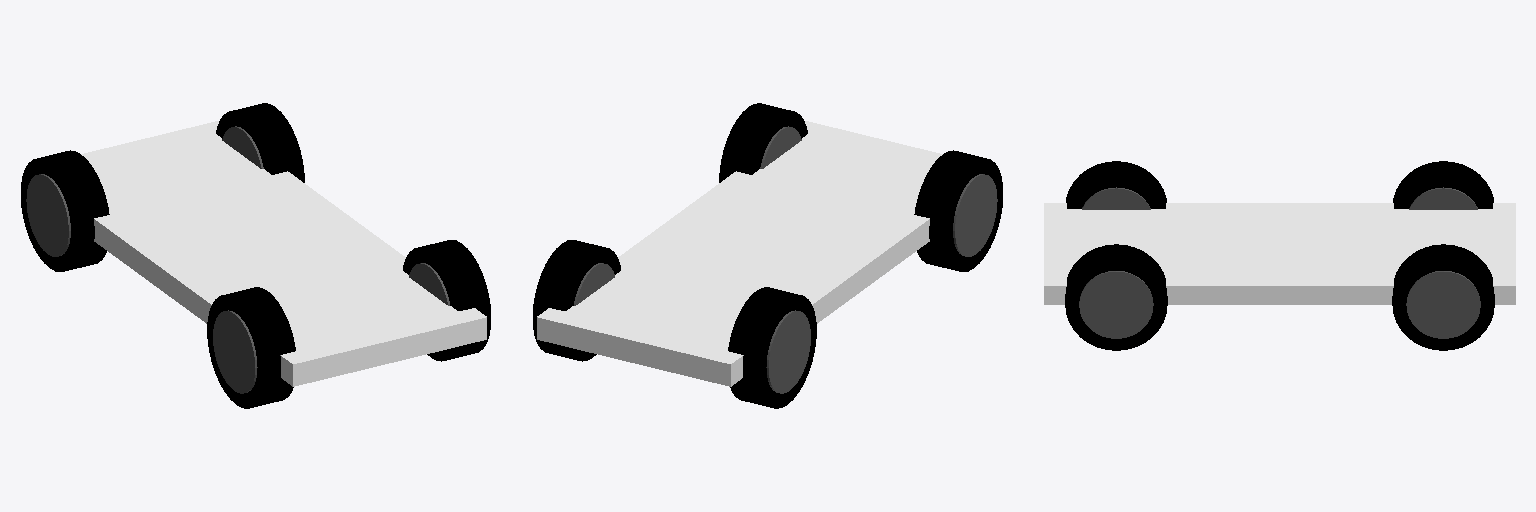
robot.urdf — toyotaComs:
<?xml version="1.0"?>
<robot name="toyotaComs">
  <link name="base_link">
    <visual>
      <geometry>
        <box size="0.9200 2.2025 0.1015"/>
      </geometry>
      <origin rpy="0 0 0 " xyz="0 0 0.06"/>
      <material name="white">
         <color rgba="1 1 1 1"/>
      </material>
    </visual>
    <collision>
      <geometry>
         <box size="0.9200 2.2025 0.1015"/>
      </geometry>
      <origin rpy="0 0 0 " xyz="0 0 0.06"/>
    </collision>
    <inertial>
      <mass value="10"/>
      <inertia ixx="0.012" ixy="0.0" ixz="0.0" iyy="0.012" iyz="0.0" izz="0.008"/>
    </inertial>
  </link>


<link name="left_back_wheel">
    <visual>
      <geometry>
        <cylinder length="0.15" radius="0.24" />
      </geometry>
      <material name="black">
       <color rgba="0 0 0 1"/>
      </material>
    </visual>
     <collision>
      <geometry>
        <cylinder length="0.15" radius="0.24" />
      </geometry>
    </collision>
    <inertial>
      <mass value="1"/>
      <inertia ixx="0.00498" ixy="0.0" ixz="0.0" iyy="0.00498" iyz="0.0" izz="0.00845"/>
     </inertial>
  </link>

 <joint name="left_back_wheel_joint" type="fixed">
    <axis xyz="0 0 1"/>
    <parent link="base_link"/>
    <child link="left_back_wheel"/>
    <origin rpy="1.57075 0 1.57075 " xyz="0.46 0.765 0.05"/>
    <limit effort="100" velocity="100"/>
    <joint_properties damping="0.0" friction="0.0"/>
  </joint>

<link name="inner_left_back_wheel">
    <visual>
      <geometry>
        <cylinder length="0.17" radius="0.1741" />
      </geometry>
      <material name="grey">
       <color rgba="0.4 0.4 0.4 1"/>
      </material>
    </visual>
     <collision>
      <geometry>
        <cylinder length="0.17" radius="0.1741" />
      </geometry>
    </collision>
    <inertial>
      <mass value="1"/>
      <inertia ixx="0.00498" ixy="0.0" ixz="0.0" iyy="0.00498" iyz="0.0" izz="0.00845"/>
     </inertial>
  </link>

 <joint name="inner_left_back_wheel_joint" type="fixed">
    <axis xyz="0 0 1"/>
    <parent link="left_back_wheel"/>
    <child link="inner_left_back_wheel"/>
    <origin rpy="0 0 0 " xyz="0 0 0"/>
    <limit effort="100" velocity="100"/>
    <joint_properties damping="0.0" friction="0.0"/>
  </joint>


<link name="right_back_wheel">
    <visual>
      <geometry>
        <cylinder length="0.15" radius="0.24" />
      </geometry>
      <material name="black">
       <color rgba="0 0 0 1"/>
      </material>
    </visual>
     <collision>
      <geometry>
        <cylinder length="0.15" radius="0.24" />
      </geometry>
    </collision>
    <inertial>
      <mass value="1"/>
      <inertia ixx="0.00498" ixy="0.0" ixz="0.0" iyy="0.00498" iyz="0.0" izz="0.00845"/>
     </inertial>
  </link>

 <joint name="right_back_wheel_joint" type="fixed">
    <axis xyz="0 0 1"/>
    <parent link="base_link"/>
    <child link="right_back_wheel"/>
    <origin rpy="1.57075 0 1.57075 " xyz="-0.46 0.765 0.05"/>
    <limit effort="100" velocity="100"/>
    <joint_properties damping="0.0" friction="0.0"/>
  </joint>

<link name="inner_right_back_wheel">
    <visual>
      <geometry>
        <cylinder length="0.17" radius="0.1741" />
      </geometry>
      <material name="grey">
       <color rgba="0.4 0.4 0.4 1"/>
      </material>
    </visual>
     <collision>
      <geometry>
        <cylinder length="0.17" radius="0.1741" />
      </geometry>
    </collision>
    <inertial>
      <mass value="1"/>
      <inertia ixx="0.00498" ixy="0.0" ixz="0.0" iyy="0.00498" iyz="0.0" izz="0.00845"/>
     </inertial>
  </link>

 <joint name="inner_right_back_wheel_joint" type="fixed">
    <axis xyz="0 0 1"/>
    <parent link="right_back_wheel"/>
    <child link="inner_right_back_wheel"/>
    <origin rpy="0 0 0 " xyz="0 0 0"/>
    <limit effort="100" velocity="100"/>
    <joint_properties damping="0.0" friction="0.0"/>
  </joint>


<link name="left_front_wheel">
    <visual>
      <geometry>
        <cylinder length="0.15" radius="0.24" />
      </geometry>
      <material name="black">
       <color rgba="0 0 0 1"/>
      </material>
    </visual>
     <collision>
      <geometry>
        <cylinder length="0.15" radius="0.24" />
      </geometry>
    </collision>
    <inertial>
      <mass value="1"/>
      <inertia ixx="0.00498" ixy="0.0" ixz="0.0" iyy="0.00498" iyz="0.0" izz="0.00845"/>
     </inertial>
  </link>

 <joint name="left_front_wheel_joint" type="revolute">
    <axis xyz="0 1 0"/>
    <parent link="base_link"/>
    <child link="left_front_wheel"/>
    <origin rpy="1.57075 0 1.57075 " xyz="0.46 -0.765 0.05"/>
    <limit effort="1000.0" lower="-0.785" upper="0.785" velocity="0.5"/>
    <joint_properties damping="0.0" friction="0.0"/>
  </joint>

<link name="inner_left_front_wheel">
    <visual>
      <geometry>
        <cylinder length="0.17" radius="0.1741" />
      </geometry>
      <material name="grey">
       <color rgba="0.4 0.4 0.4 1"/>
      </material>
    </visual>
     <collision>
      <geometry>
        <cylinder length="0.17" radius="0.1741" />
      </geometry>
    </collision>
    <inertial>
      <mass value="1"/>
      <inertia ixx="0.00498" ixy="0.0" ixz="0.0" iyy="0.00498" iyz="0.0" izz="0.00845"/>
     </inertial>
  </link>

 <joint name="inner_left_front_wheel_joint" type="fixed">
    <axis xyz="0 0 1"/>
    <parent link="left_front_wheel"/>
    <child link="inner_left_front_wheel"/>
    <origin rpy="0 0 0 " xyz="0.0 0.0 0.0"/>
    <limit effort="100" velocity="100"/>
    <joint_properties damping="0.0" friction="0.0"/>
  </joint>

<link name="right_front_wheel">
    <visual>
      <geometry>
        <cylinder length="0.15" radius="0.24" />
      </geometry>
      <material name="black">
       <color rgba="0 0 0 1"/>
      </material>
    </visual>
     <collision>
      <geometry>
        <cylinder length="0.15" radius="0.24" />
      </geometry>
    </collision>
    <inertial>
      <mass value="1"/>
      <inertia ixx="0.00498" ixy="0.0" ixz="0.0" iyy="0.00498" iyz="0.0" izz="0.00845"/>
     </inertial>
  </link>

 <joint name="right_front_wheel_joint" type="revolute">
    <axis xyz="0 1 0"/>
    <parent link="base_link"/>
    <child link="right_front_wheel"/>
    <origin rpy="1.57075 0 1.57075 " xyz="-0.46 -0.765 0.05"/>
    <limit effort="1000.0" lower="-0.785" upper="0.785" velocity="0.5"/>
    <joint_properties damping="0.0" friction="0.0"/>
  </joint>

<link name="inner_right_front_wheel">
    <visual>
      <geometry>
        <cylinder length="0.17" radius="0.1741" />
      </geometry>
      <material name="grey">
       <color rgba="0.4 0.4 0.4 1"/>
      </material>
    </visual>
     <collision>
      <geometry>
        <cylinder length="0.17" radius="0.1741" />
      </geometry>
    </collision>
    <inertial>
      <mass value="1"/>
      <inertia ixx="0.00498" ixy="0.0" ixz="0.0" iyy="0.00498" iyz="0.0" izz="0.00845"/>
     </inertial>
  </link>

 <joint name="inner_right_front_wheel_joint" type="fixed">
    <axis xyz="0 0 1"/>
    <parent link="right_front_wheel"/>
    <child link="inner_right_front_wheel"/>
    <origin rpy="0 0 0 " xyz="0 0 0"/>
    <limit effort="100" velocity="100"/>
    <joint_properties damping="0.0" friction="0.0"/>
  </joint>





<link name="car_body">
    <visual>
      <origin rpy="0 0 0" xyz="0 0 0"/>
      <geometry>
        <mesh filename="package://ackermann_steering/mesh/toyotaComsFinal.dae"/>
      </geometry>
    </visual>
    <collision>
      <geometry>
        <mesh filename="package://ackermann_steering/mesh/toyotaComsFinal.dae"/>
      </geometry>
     <origin rpy="0 0 0" xyz="0 0 0"/>
    </collision>
    <inertial>
      <mass value="0.05"/>
     <inertia ixx="0.012" ixy="0.0" ixz="0.0" iyy="0.012" iyz="0.0" izz="0.008"/>
    </inertial>
  </link>

<joint name="car_body_joint" type="fixed">
    <axis xyz="0 0 0"/>
    
    <origin rpy="0 0 0" xyz="0.005 0 0.055"/>
    <parent link="base_link"/>
    <child link="car_body"/>
  </joint>



</robot>

--- Facts derived from the render (not from the file) ---
Views: 3 orthographic renders of the robot side by side, from view 1: azimuth 30°, elevation 25°; view 2: azimuth 150°, elevation 25°; view 3: azimuth 270°, elevation 25°.
Model toyotaComs with 10 links and 9 joints (2 revolute, 7 fixed), rooted at base_link, posed every joint at zero.
Visible links, largest first — view 1: base_link, right_back_wheel, right_front_wheel, left_front_wheel, left_back_wheel, inner_right_front_wheel, inner_right_back_wheel, inner_left_back_wheel, inner_left_front_wheel; view 2: base_link, right_front_wheel, right_back_wheel, left_back_wheel, left_front_wheel, inner_right_back_wheel, inner_right_front_wheel, inner_left_back_wheel, inner_left_front_wheel; view 3: base_link, left_back_wheel, left_front_wheel, inner_left_back_wheel, inner_left_front_wheel, right_back_wheel, right_front_wheel, inner_right_back_wheel, inner_right_front_wheel.
Link boxes in pixels (x1,y1,x2,y2): base_link: [81, 121, 486, 386]; right_back_wheel: [21, 150, 109, 271]; right_front_wheel: [207, 287, 295, 408]; left_front_wheel: [403, 240, 490, 361]; left_back_wheel: [216, 103, 304, 182]; inner_right_front_wheel: [213, 310, 257, 393]; inner_right_back_wheel: [26, 174, 70, 256]; inner_left_back_wheel: [222, 126, 263, 168]; inner_left_front_wheel: [409, 263, 449, 305]; base_link: [537, 121, 942, 386]; right_front_wheel: [914, 150, 1002, 271]; right_back_wheel: [728, 287, 816, 408]; left_back_wheel: [533, 240, 620, 361]; left_front_wheel: [719, 103, 807, 182]; inner_right_back_wheel: [766, 310, 810, 393]; inner_right_front_wheel: [953, 174, 997, 256]; inner_left_back_wheel: [574, 263, 614, 305]; inner_left_front_wheel: [760, 126, 801, 168]; base_link: [1044, 203, 1515, 304]; left_back_wheel: [1392, 244, 1494, 350]; left_front_wheel: [1065, 244, 1167, 350]; inner_left_back_wheel: [1406, 271, 1480, 338]; inner_left_front_wheel: [1079, 271, 1153, 338]; right_back_wheel: [1393, 161, 1493, 208]; right_front_wheel: [1066, 161, 1166, 208]; inner_right_back_wheel: [1409, 187, 1477, 209]; inner_right_front_wheel: [1082, 187, 1150, 209].
Size in the robot's own frame: 1.09 by 2.2 by 0.48 metres.
Meshes: 1 distinct files referenced, 0 mesh visuals loaded (none loaded); not drawn: 1 (reference not matched to a file when rendering).